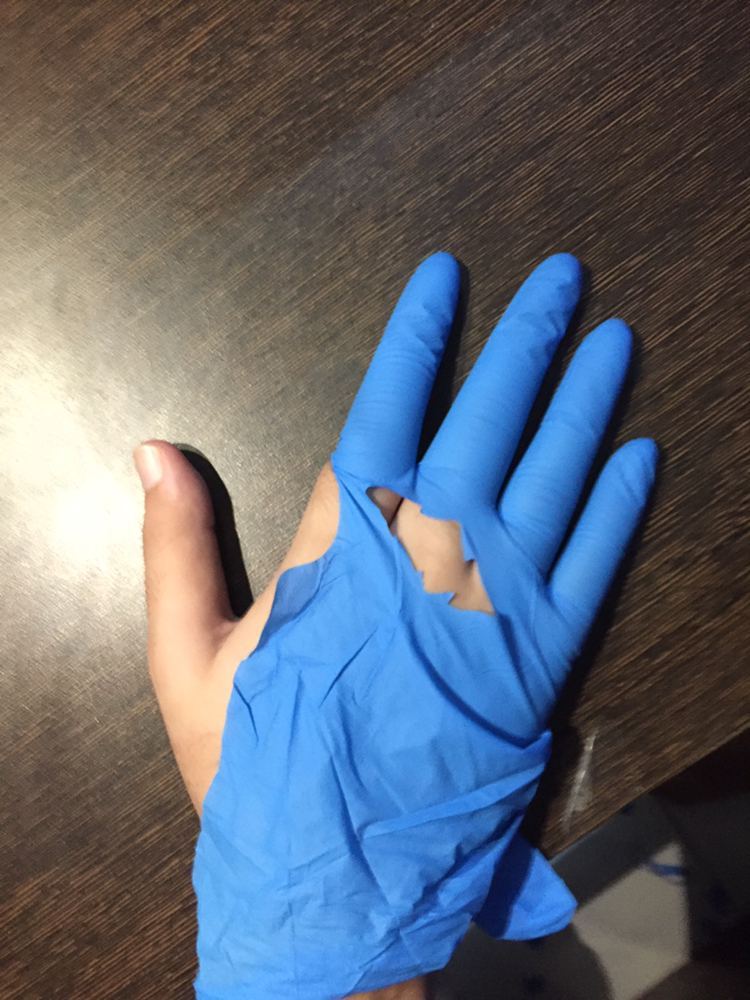defected: (62, 237, 683, 916)
